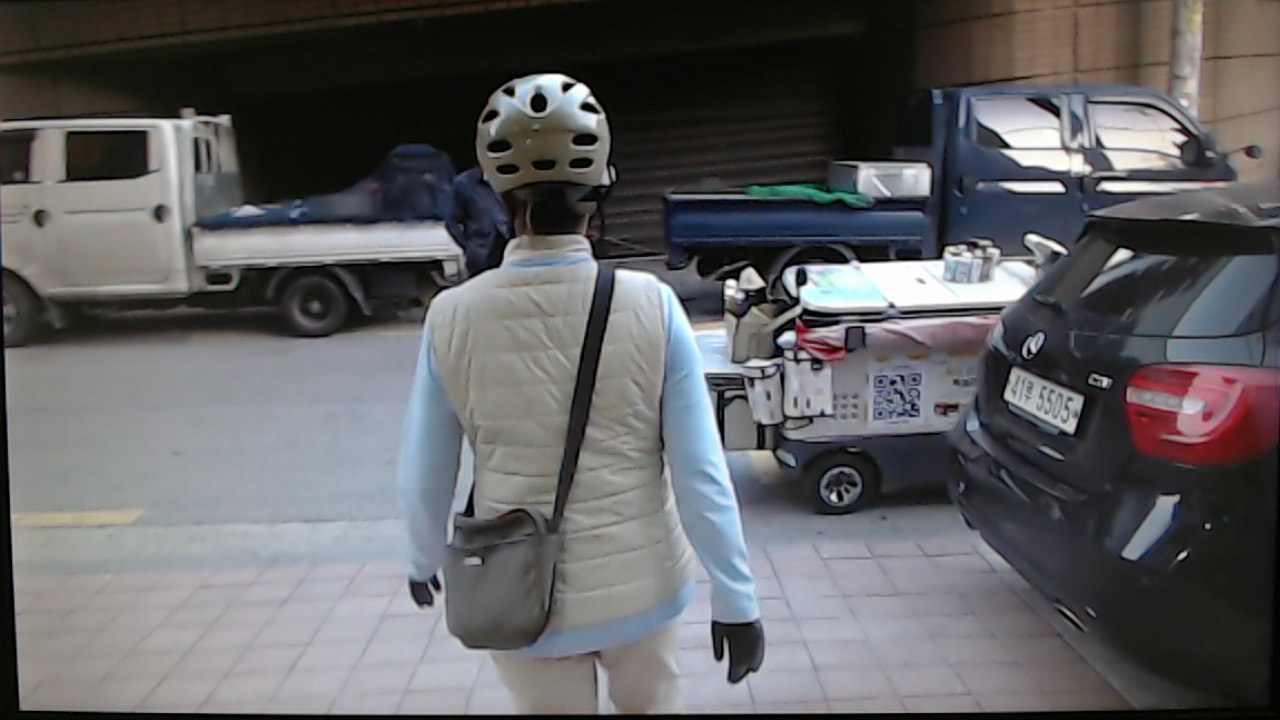Yakurut: (416, 61, 782, 720)
